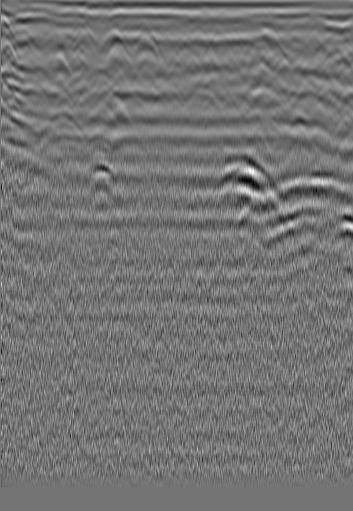가스: (87, 159, 121, 191)
상수: (306, 34, 326, 54)
오수: (17, 32, 37, 52)
우수: (176, 42, 196, 62)
